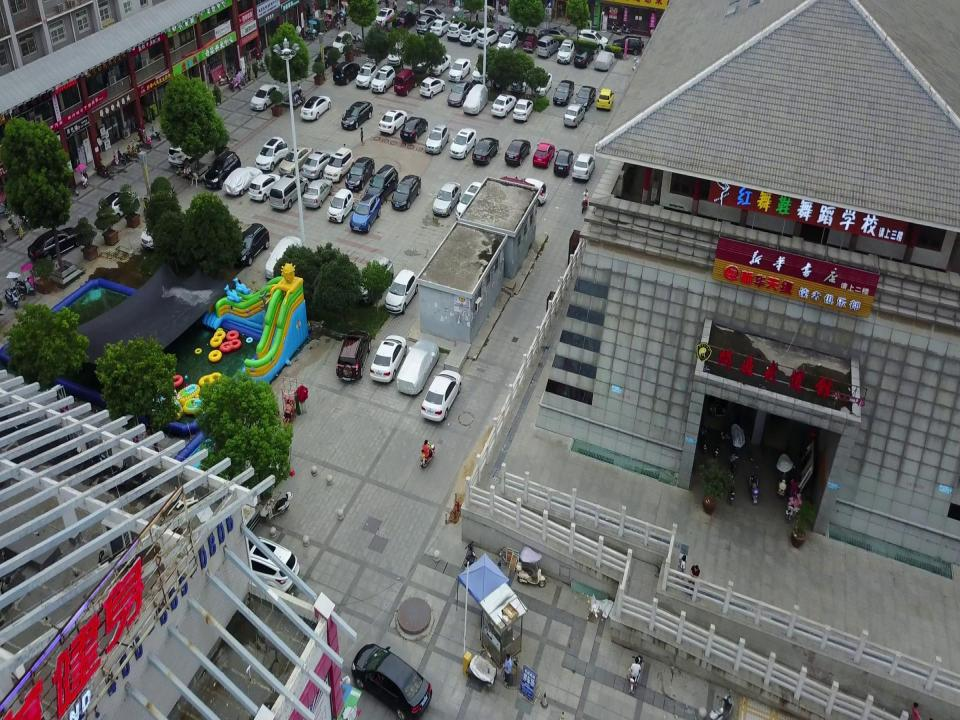car: (350, 644, 432, 720), (397, 341, 438, 395), (422, 371, 461, 422), (370, 334, 406, 387), (28, 227, 82, 262), (140, 210, 186, 250), (336, 330, 368, 382), (231, 223, 269, 266), (386, 269, 419, 317), (265, 236, 301, 278), (270, 174, 308, 212), (205, 153, 241, 192), (366, 165, 398, 205), (350, 193, 381, 234), (222, 166, 260, 199), (511, 176, 549, 207), (279, 145, 313, 178), (255, 137, 286, 173), (98, 190, 132, 221), (324, 148, 354, 183), (346, 158, 375, 194), (341, 100, 373, 132), (169, 135, 201, 167), (391, 175, 421, 209), (326, 189, 356, 223), (457, 183, 483, 222), (300, 92, 332, 123), (433, 183, 462, 216), (303, 152, 333, 183), (249, 173, 279, 204), (449, 127, 477, 160), (303, 178, 331, 209), (251, 83, 279, 111), (378, 109, 407, 136), (401, 115, 427, 144), (473, 138, 499, 166), (572, 152, 595, 183), (505, 140, 531, 167), (370, 66, 396, 93), (552, 77, 576, 106), (426, 126, 450, 154), (578, 27, 607, 50), (612, 36, 642, 58), (334, 61, 360, 86), (355, 62, 378, 90), (448, 80, 472, 106), (394, 68, 417, 95), (413, 43, 435, 71), (419, 6, 448, 27), (492, 94, 516, 119), (574, 82, 594, 112), (386, 40, 410, 65), (427, 49, 451, 74), (449, 57, 471, 84), (331, 31, 354, 55), (532, 71, 554, 96), (471, 53, 492, 79), (511, 65, 531, 92), (564, 106, 586, 129), (553, 150, 571, 178), (534, 142, 554, 167), (446, 17, 466, 41), (420, 77, 444, 96), (573, 46, 592, 70), (513, 98, 533, 120), (498, 29, 518, 51), (477, 27, 497, 49), (460, 24, 482, 44), (558, 38, 575, 63), (392, 11, 414, 30), (429, 16, 449, 36), (375, 7, 395, 27), (596, 89, 614, 111), (594, 52, 614, 71), (522, 32, 536, 56), (416, 15, 432, 36)
van: (536, 35, 560, 60)
